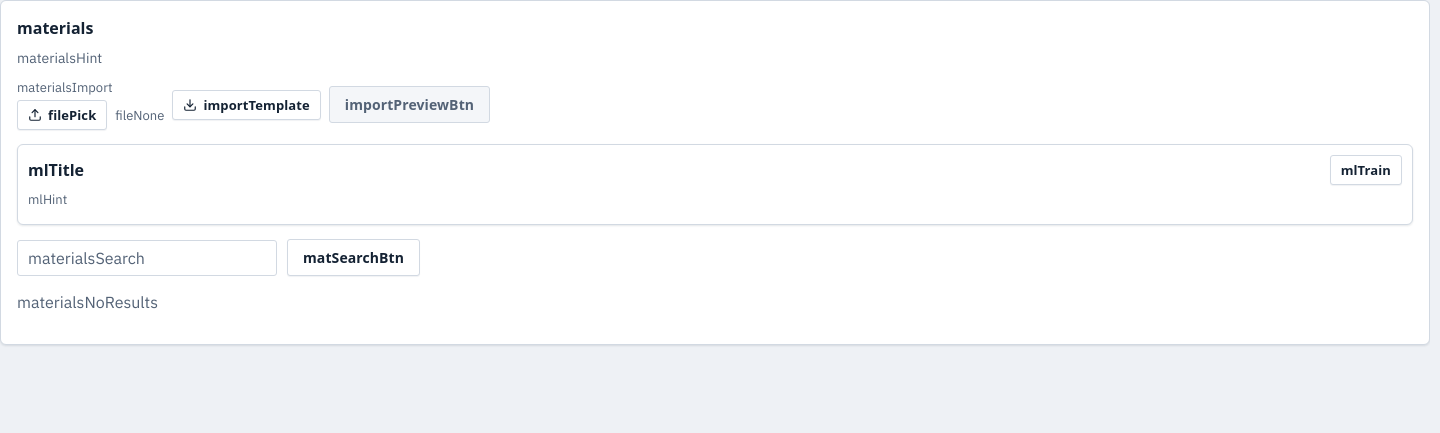
Test: wyścigi odpowiedzi — starsza odpowiedź nie nadpisuje nowszej › MaterialsTab: kolejne wyszukiwanie
Type "x" into the field with placeholder "materialsSearch" at (147, 258), box [17,240,277,276]
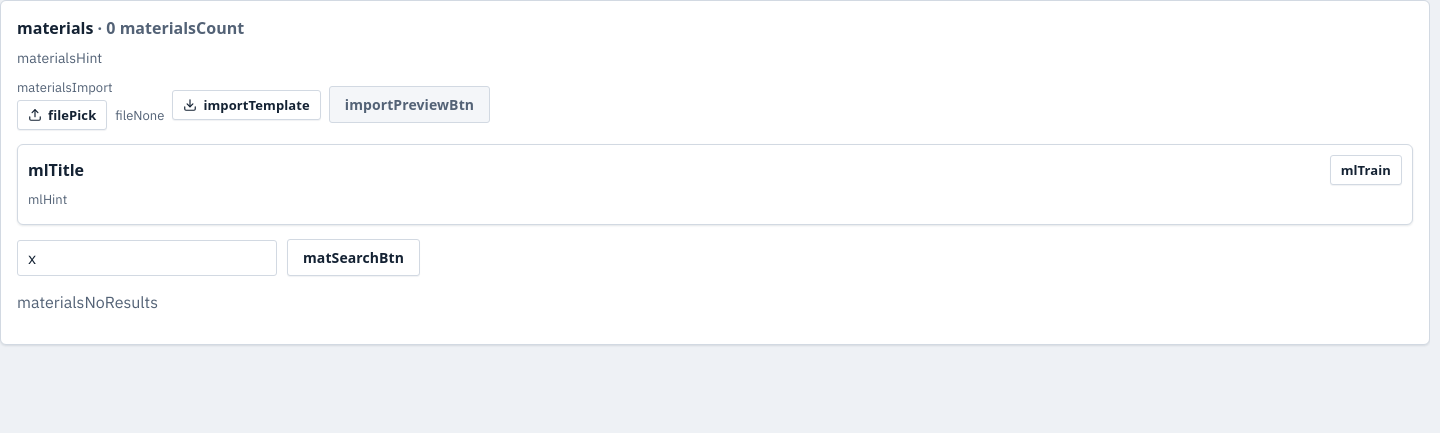
Submit the form with placeholder "materialsSearch", box [17,239,420,276]
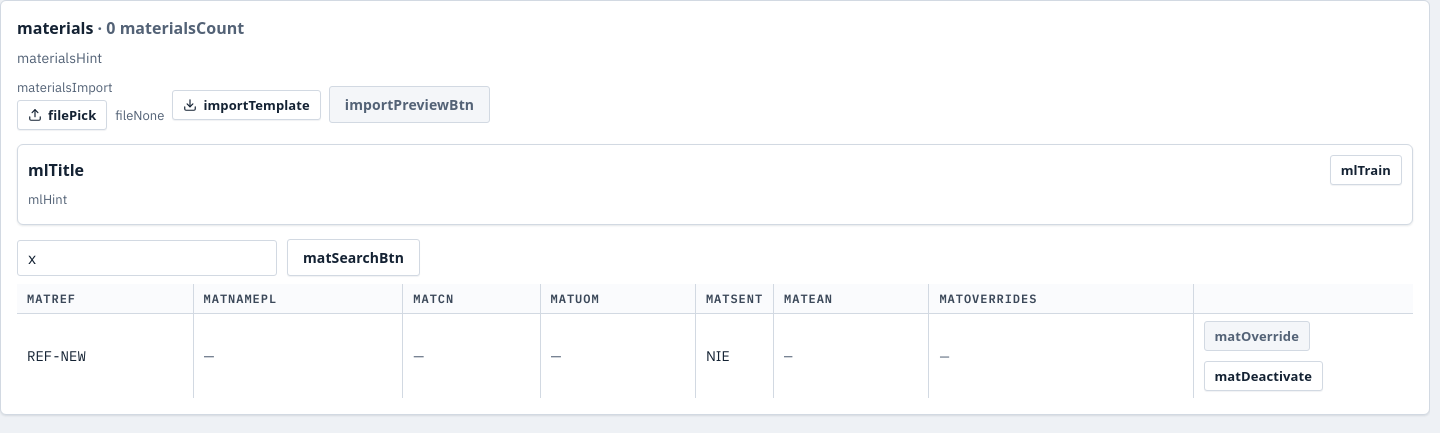
Expected: the text "REF-NEW" is shown, [17,314,193,398]
